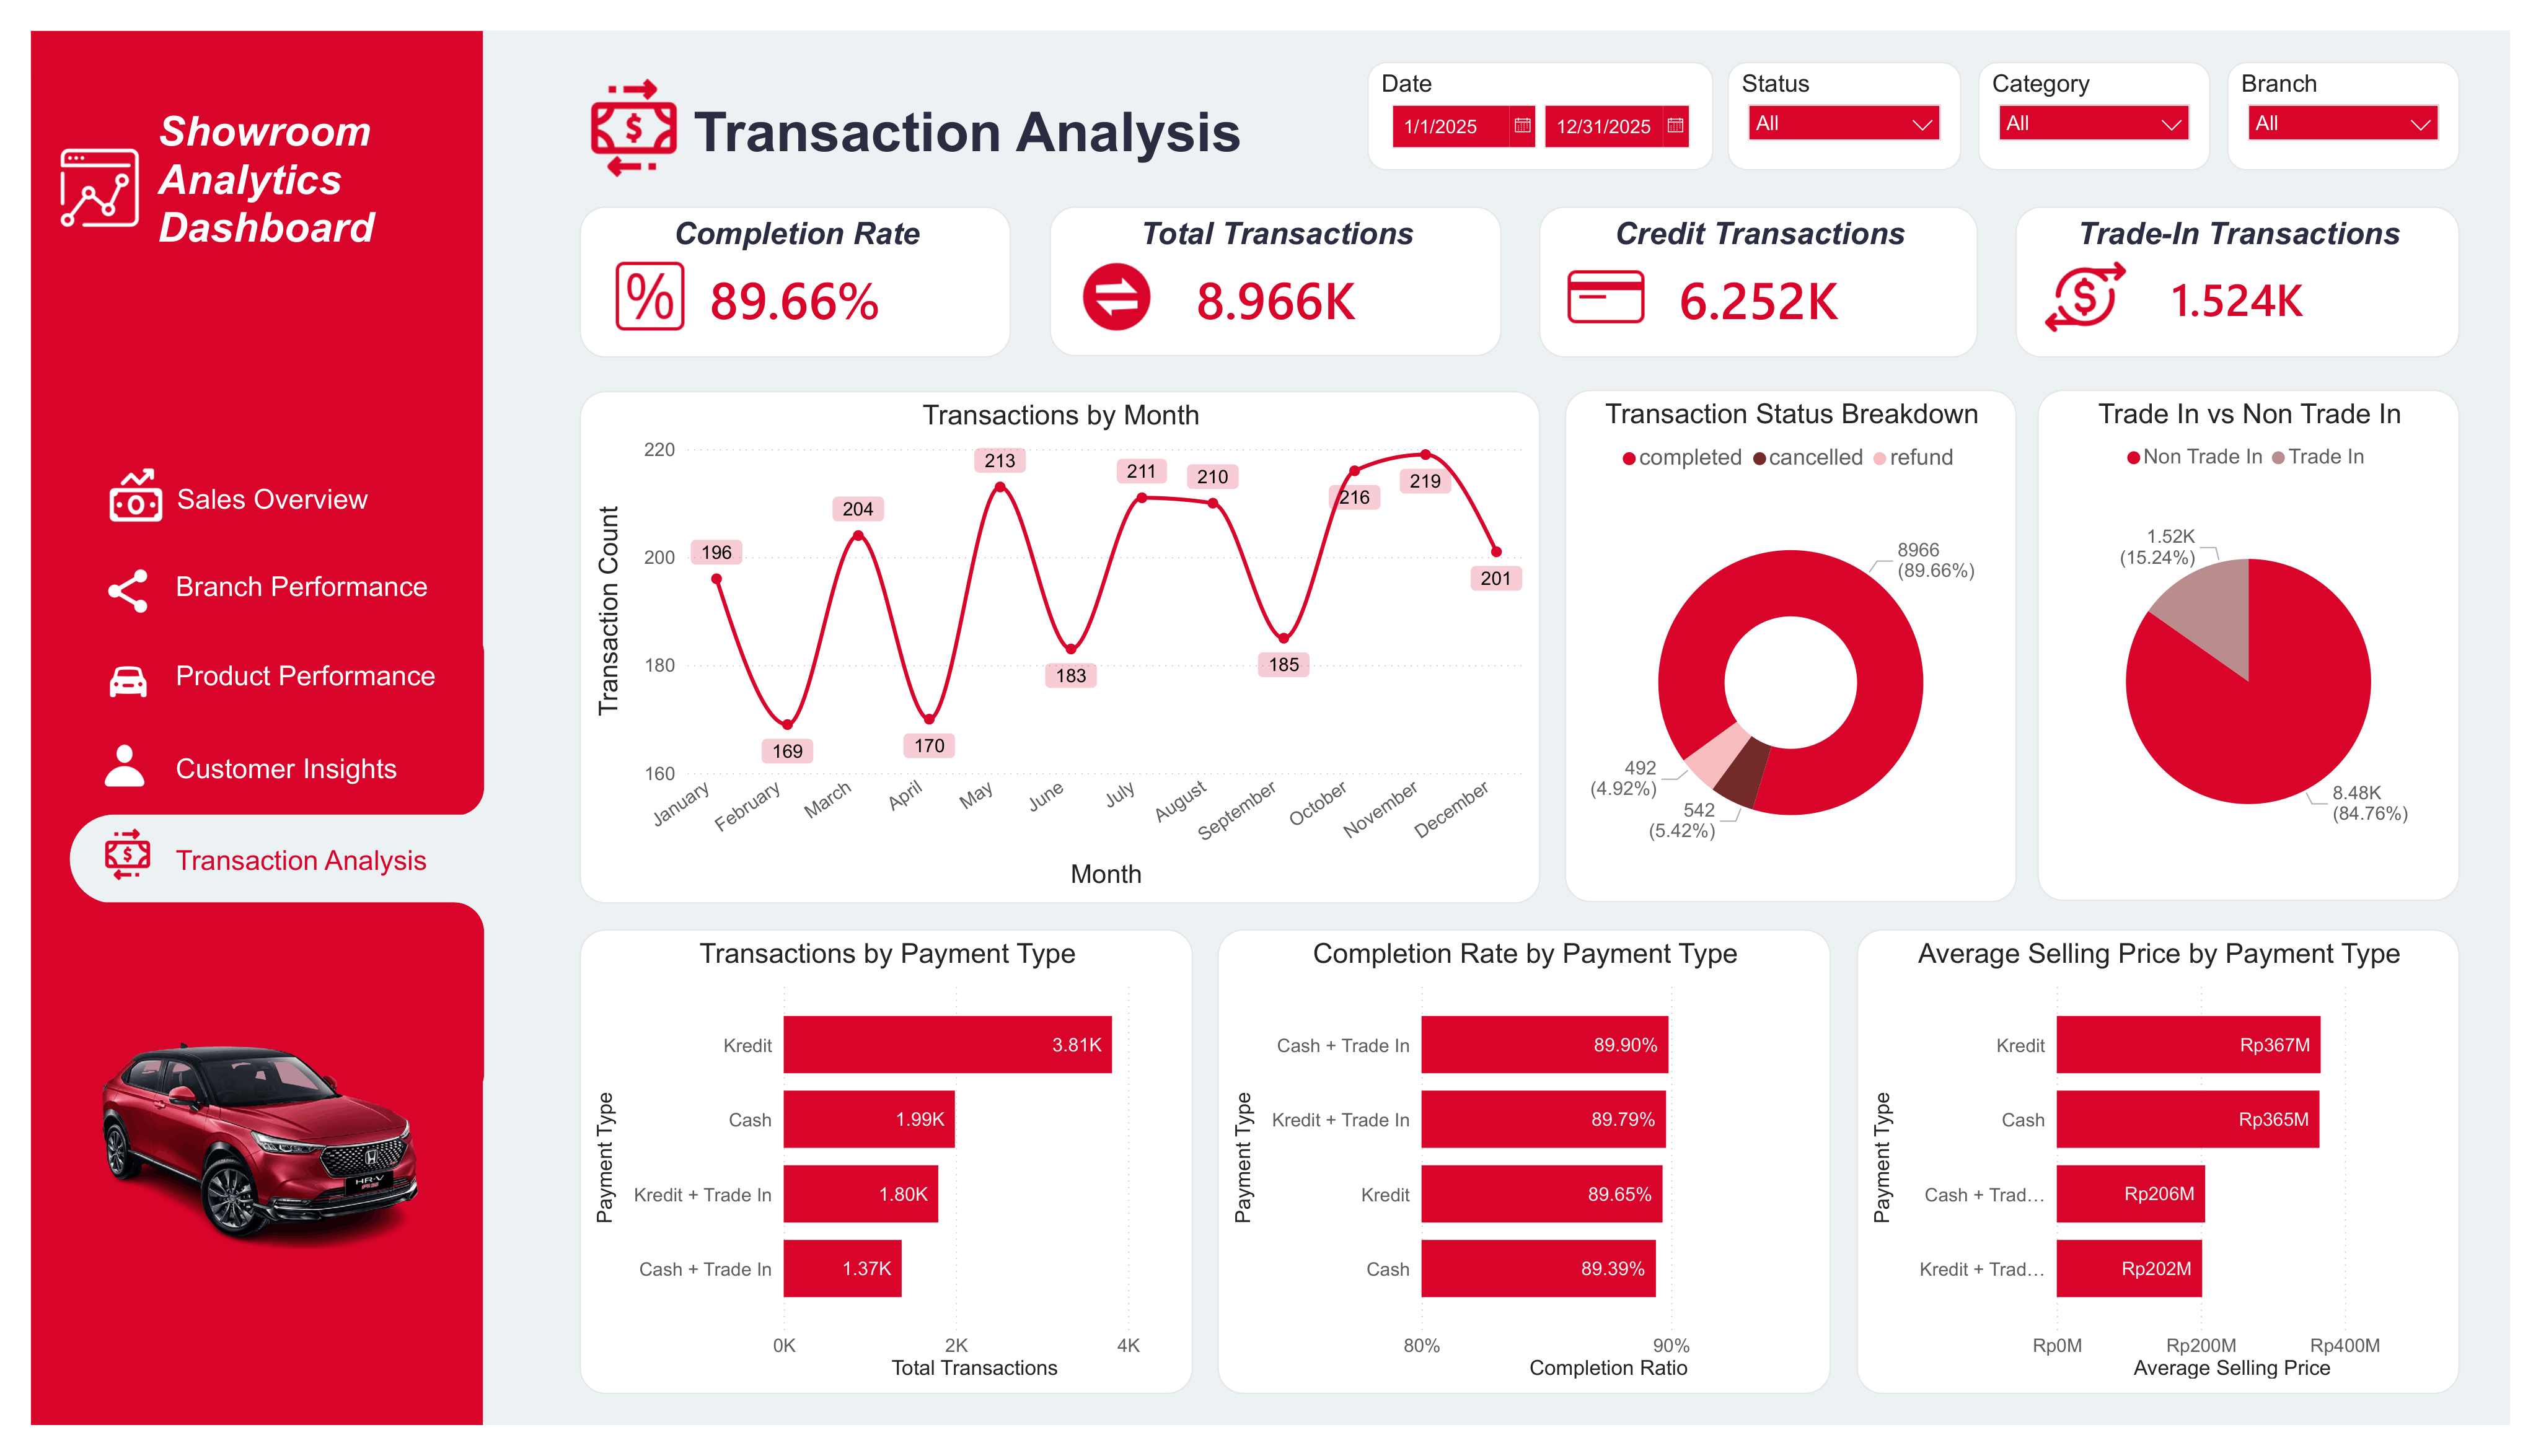

What the dashboard file says about the page in this screenshot:
{"tool":"powerbi","page":{"name":"Transaction Analysis","canvas":[1920,1080],"ordinal":4},"visuals":[{"type":"shape","box":[0,0,350,1080],"z":0},{"type":"barChart","title":"Transactions by Payment Type","fields":{"Category":["showroom_mobil_clean.payment_type"],"Y":["showroom_mobil_clean.Total Transactions"]},"box":[425,696.2,475,360],"z":1000},{"type":"donutChart","title":"Transaction Status Breakdown","fields":{"Category":["showroom_mobil_clean.status"],"Y":["CountNonNull(showroom_mobil_clean.order_id)"]},"box":[1187.5,277.5,350,397.5],"z":2000},{"type":"cardVisual","title":"Completion Rate","fields":{"Data":["showroom_mobil_clean.Completion Ratio"]},"box":[425.4,135.7,333.2,117.2],"z":3000},{"type":"image","box":[20,91.3,66.1,60.9],"z":4000},{"type":"textbox","box":[508.4,48.7,499.2,60.6],"z":5000},{"type":"cardVisual","title":"Total Transactions","fields":{"Data":["showroom_mobil_clean.Total Transactions"]},"box":[788.9,135.7,350.3,115.9],"z":6000},{"type":"cardVisual","title":"Credit Transactions","fields":{"Data":["showroom_mobil_clean.Credit Transactions"]},"box":[1168.2,135.7,339.8,117.2],"z":7000},{"type":"cardVisual","title":"Trade-In Transactions","fields":{"Data":["showroom_mobil_clean.Trade-In Transactions"]},"box":[1537,135.7,343.8,117.2],"z":8000},{"type":"slicer","title":"Date","fields":{"Values":["showroom_mobil_clean.sales_date"]},"box":[1034.7,24.5,268,83.8],"z":9000},{"type":"slicer","title":"Status","fields":{"Values":["showroom_mobil_clean.status"]},"box":[1314.4,24.5,180.4,83.8],"z":10000},{"type":"slicer","title":"Category","fields":{"Values":["showroom_mobil_clean.category"]},"box":[1507.7,24.5,180.4,83.8],"z":11000},{"type":"slicer","title":"Branch","fields":{"Values":["showroom_mobil_clean.branch"]},"box":[1700.9,24.5,180.4,83.8],"z":12000},{"type":"shape","box":[93.9,518.2,258.6,89.9],"z":13000},{"type":"shape","box":[0,459.6,350.5,148.5],"z":14000},{"type":"shape","box":[30.3,607.2,350.3,68.5],"z":15000},{"type":"shape","box":[87.9,673.7,264.6,85.9],"z":16000},{"type":"textbox","box":[108.3,346.3,196.7,42.1],"z":17000},{"type":"image","box":[56.2,330.6,51.2,57.9],"z":18000},{"type":"shape","box":[11.1,674.7,339.4,156.6],"z":19000},{"type":"textbox","box":[93,54.8,244.3,133.9],"z":20000},{"type":"textbox","box":[107.3,413.8,216.5,43.1],"z":21000},{"type":"textbox","box":[107.3,555,197.2,35.8],"z":22000},{"type":"textbox","box":[107.3,483.5,216.5,42.2],"z":23000},{"type":"textbox","box":[107.3,625.7,216.5,35.8],"z":24000},{"type":"image","box":[55.3,410.9,39.5,46.1],"z":25000},{"type":"image","box":[55.3,480.7,40.8,46.1],"z":26000},{"type":"image","box":[52.7,547.9,39.5,42.1],"z":27000},{"type":"image","box":[0,621.2,352.5,458.6],"z":28000},{"type":"image","box":[55.3,615.1,39.5,46.1],"z":29000},{"type":"image","box":[425.4,36.9,83,76.4],"z":30000},{"type":"lineChart","title":"Transactions by Month","fields":{"Y":["showroom_mobil_clean.Total Transactions"],"Category":["showroom_mobil_clean.sales_date.Variation.Date Hierarchy.Month"]},"box":[425,278.8,743.8,397.5],"z":31000},{"type":"image","box":[439.9,173.9,79,63.2],"z":32000},{"type":"image","box":[801.2,173.8,80,63.8],"z":33000},{"type":"image","box":[1180,173.8,78.8,63.8],"z":34000},{"type":"image","box":[1551.2,173.8,78.8,63.8],"z":35000},{"type":"pieChart","title":"Trade In vs Non Trade In","fields":{"Category":["showroom_mobil_clean.trade_in_status"],"Y":["CountNonNull(showroom_mobil_clean.order_id)"]},"box":[1553.8,277.5,327.5,396.2],"z":36000},{"type":"barChart","title":"Completion Rate by Payment Type","fields":{"Category":["showroom_mobil_clean.payment_type"],"Y":["showroom_mobil_clean.Completion Ratio"]},"box":[918.8,696.2,475,360],"z":37000},{"type":"barChart","title":"Average Selling Price by Payment Type","fields":{"Category":["showroom_mobil_clean.payment_type"],"Y":["showroom_mobil_clean.Average Selling Price"]},"box":[1413.8,696.2,467.5,360],"z":38000}]}

Visuals, with their boxes on the page's 1920x1080 design canvas (x1, y1, x2, y2). These are canvas units, not pixel positions in the 2541x1456 screenshot, which may show the page scaled, cropped or inside an application window:
shape: detection(0, 0, 350, 1080)
"Transactions by Payment Type" barChart: detection(425, 696, 900, 1056)
"Transaction Status Breakdown" donutChart: detection(1188, 278, 1538, 675)
"Completion Rate" cardVisual: detection(425, 136, 759, 253)
image: detection(20, 91, 86, 152)
textbox: detection(508, 49, 1008, 109)
"Total Transactions" cardVisual: detection(789, 136, 1139, 252)
"Credit Transactions" cardVisual: detection(1168, 136, 1508, 253)
"Trade-In Transactions" cardVisual: detection(1537, 136, 1881, 253)
"Date" slicer: detection(1035, 24, 1303, 108)
"Status" slicer: detection(1314, 24, 1495, 108)
"Category" slicer: detection(1508, 24, 1688, 108)
"Branch" slicer: detection(1701, 24, 1881, 108)
shape: detection(94, 518, 352, 608)
shape: detection(0, 460, 350, 608)
shape: detection(30, 607, 381, 676)
shape: detection(88, 674, 352, 760)
textbox: detection(108, 346, 305, 388)
image: detection(56, 331, 107, 388)
shape: detection(11, 675, 350, 831)
textbox: detection(93, 55, 337, 189)
textbox: detection(107, 414, 324, 457)
textbox: detection(107, 555, 304, 591)
textbox: detection(107, 484, 324, 526)
textbox: detection(107, 626, 324, 662)
image: detection(55, 411, 95, 457)
image: detection(55, 481, 96, 527)
image: detection(53, 548, 92, 590)
image: detection(0, 621, 352, 1080)
image: detection(55, 615, 95, 661)
image: detection(425, 37, 508, 113)
"Transactions by Month" lineChart: detection(425, 279, 1169, 676)
image: detection(440, 174, 519, 237)
image: detection(801, 174, 881, 238)
image: detection(1180, 174, 1259, 238)
image: detection(1551, 174, 1630, 238)
"Trade In vs Non Trade In" pieChart: detection(1554, 278, 1881, 674)
"Completion Rate by Payment Type" barChart: detection(919, 696, 1394, 1056)
"Average Selling Price by Payment Type" barChart: detection(1414, 696, 1881, 1056)
